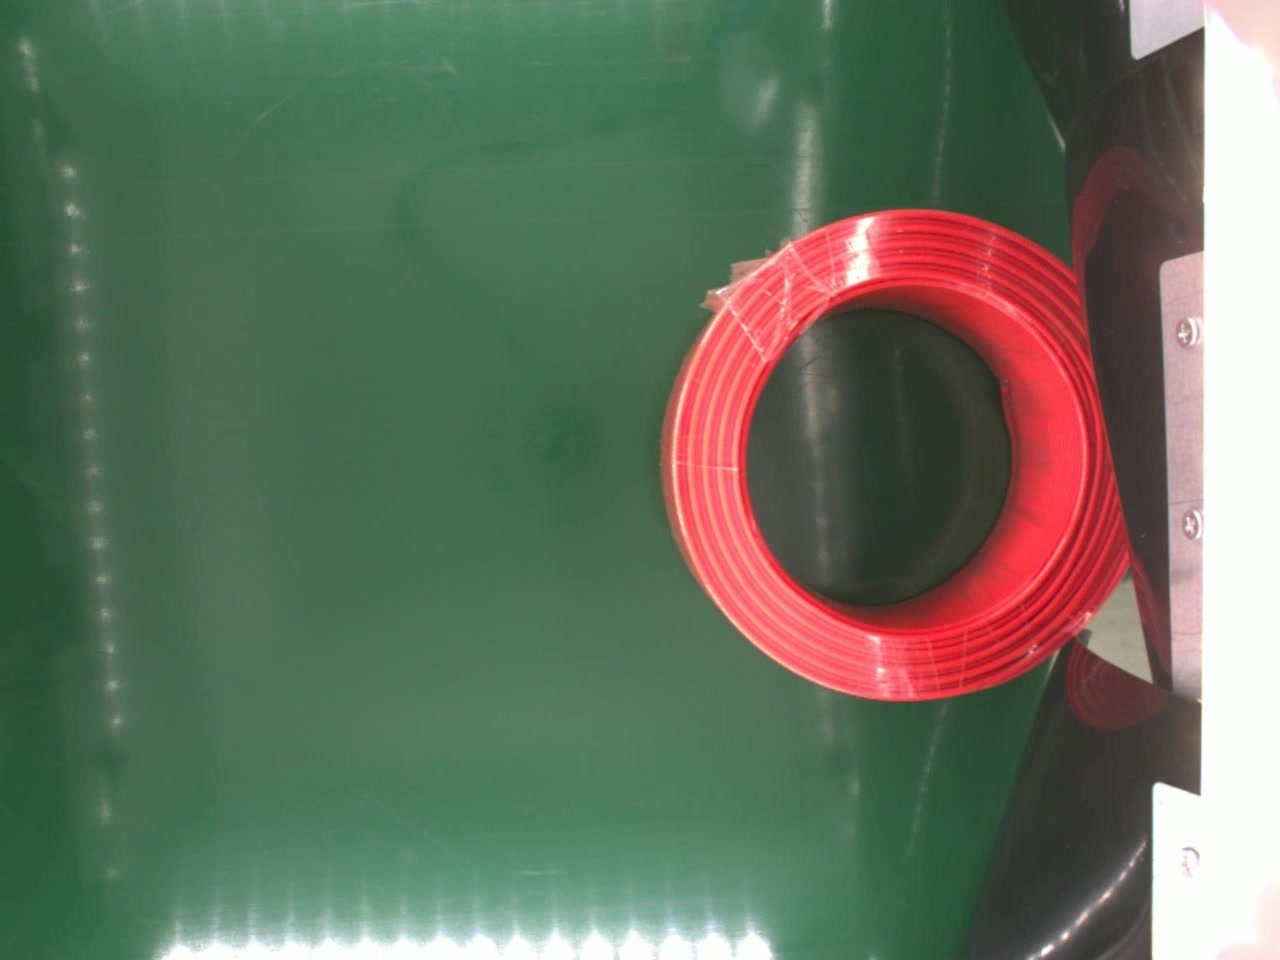red: (659, 204, 1127, 704)
